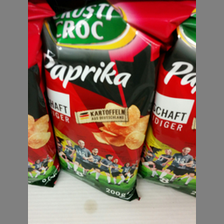chips: (44, 4, 163, 200), (137, 9, 196, 201)
